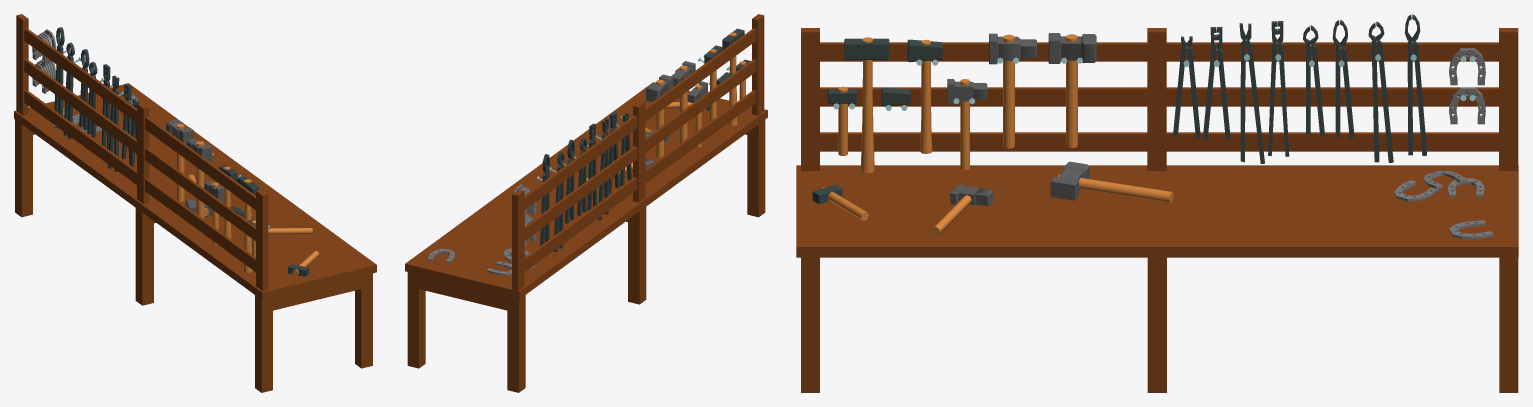
Rendered from bs radnisto.FBX.
3 renders of one model, left to right at view 1: azimuth 30°, elevation 25°; view 2: azimuth 150°, elevation 25°; view 3: azimuth 270°, elevation 25°, orthographic. The views are drawn at different scales.
Parts seen in each view (by area): view 1: Box614, Box660, Box650, Box648, Box662, Box659, Box665, Box661, Box649, Cylinder012, Cylinder042, Cylinder048; view 2: Box614, Box660, Box650, Box662, Box648, Box665, Box659, Box661, Box649, Box651, Cylinder012, Cylinder042 (+1 smaller); view 3: Box614, Box648, Box650, Box660, Cylinder012, Box662, Box661, Box659, Box665, Cylinder065, Cylinder048, Cylinder042 (+12 smaller).
Part boxes in pixels (x1,y1,x2,y2): Box614: (14, 14, 376, 392); Box660: (54, 27, 64, 115); Box650: (107, 75, 119, 171); Box648: (63, 42, 74, 139); Box662: (101, 64, 110, 149); Box659: (79, 49, 89, 130); Box665: (166, 119, 193, 144); Box661: (121, 83, 131, 163); Box649: (87, 62, 97, 137); Cylinder012: (243, 179, 252, 272); Cylinder042: (196, 141, 204, 218); Cylinder048: (176, 124, 184, 201); Box614: (405, 14, 767, 392); Box660: (540, 154, 549, 245); Box650: (597, 118, 608, 220); Box662: (587, 123, 596, 211); Box648: (553, 152, 564, 251); Box665: (646, 74, 673, 102); Box659: (564, 139, 574, 223); Box661: (608, 112, 619, 193); Box649: (577, 138, 587, 215); Box651: (619, 113, 631, 185); Cylinder012: (728, 32, 737, 125); Cylinder042: (679, 65, 687, 142); Box614: (796, 28, 1518, 392); Box648: (1368, 21, 1393, 162); Box650: (1239, 23, 1264, 163); Box660: (1404, 14, 1426, 155); Cylinder012: (860, 37, 874, 173); Box662: (1268, 21, 1289, 156); Box661: (1203, 27, 1230, 139); Box659: (1332, 20, 1354, 138); Box665: (1048, 33, 1096, 63); Cylinder065: (1057, 174, 1173, 202); Cylinder048: (1066, 34, 1077, 148); Cylinder042: (1003, 34, 1014, 148).
Bounding box in the file's own units: 80 × 140 × 300.
